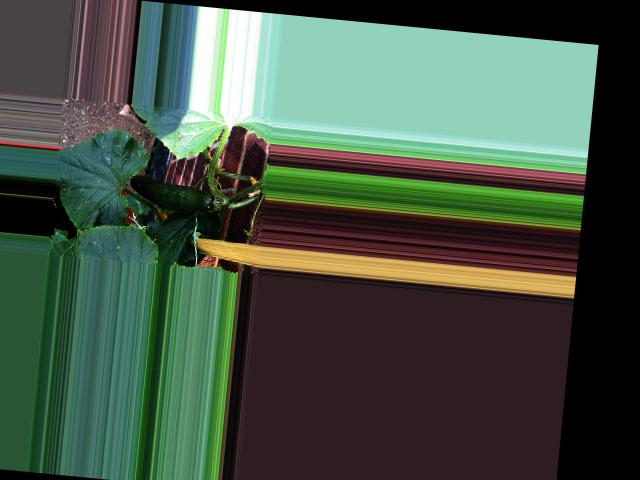cucumber: (127, 173, 216, 215)
